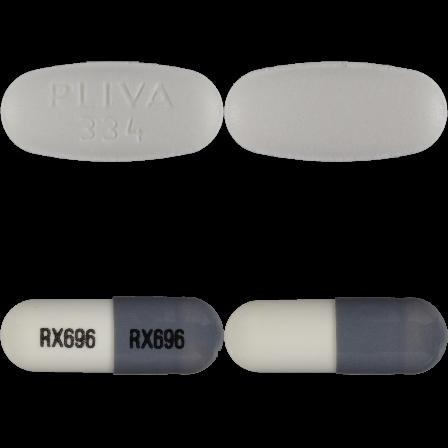68788-9083: (0, 0, 224, 224)
